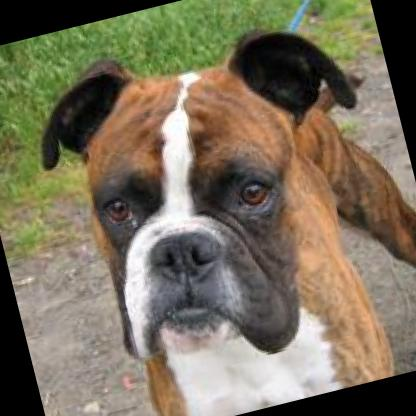boxer: (10, 0, 416, 416)
